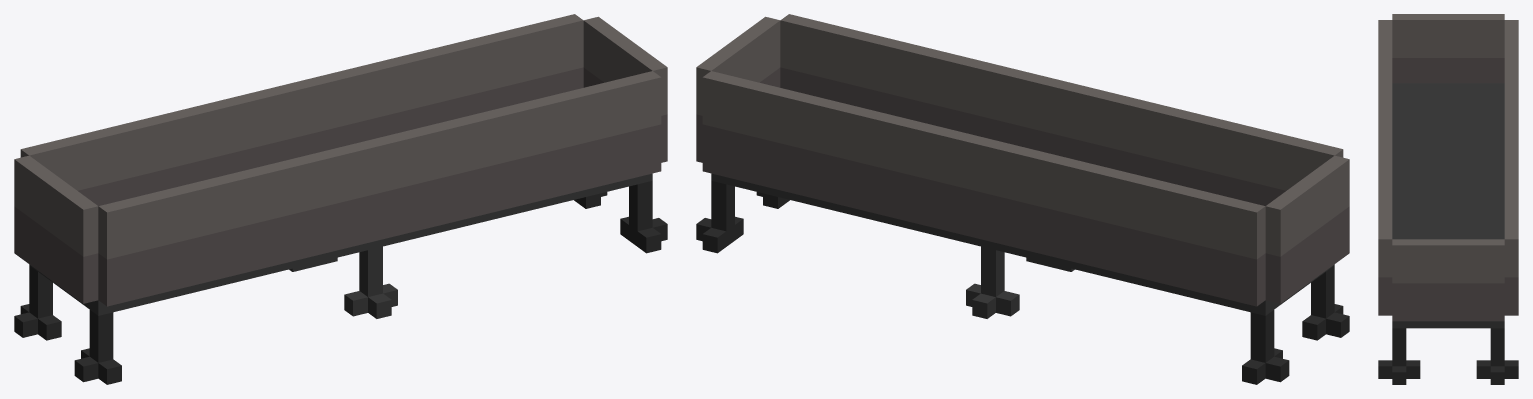
The model's file is Alimentador.obj.
3 views of the same model, side by side, from view 1: azimuth 30°, elevation 25°; view 2: azimuth 150°, elevation 25°; view 3: azimuth 270°, elevation 25° (orthographic). The views are drawn at different scales.
Size of the model in its own units: 3.9 by 1.1 by 1.
Materials: 1 (1 with a texture image).
